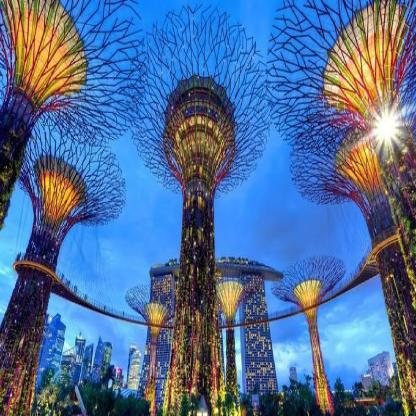other: (13, 13, 72, 122), (326, 41, 401, 92), (335, 136, 384, 187), (364, 102, 402, 156), (40, 165, 76, 220)
